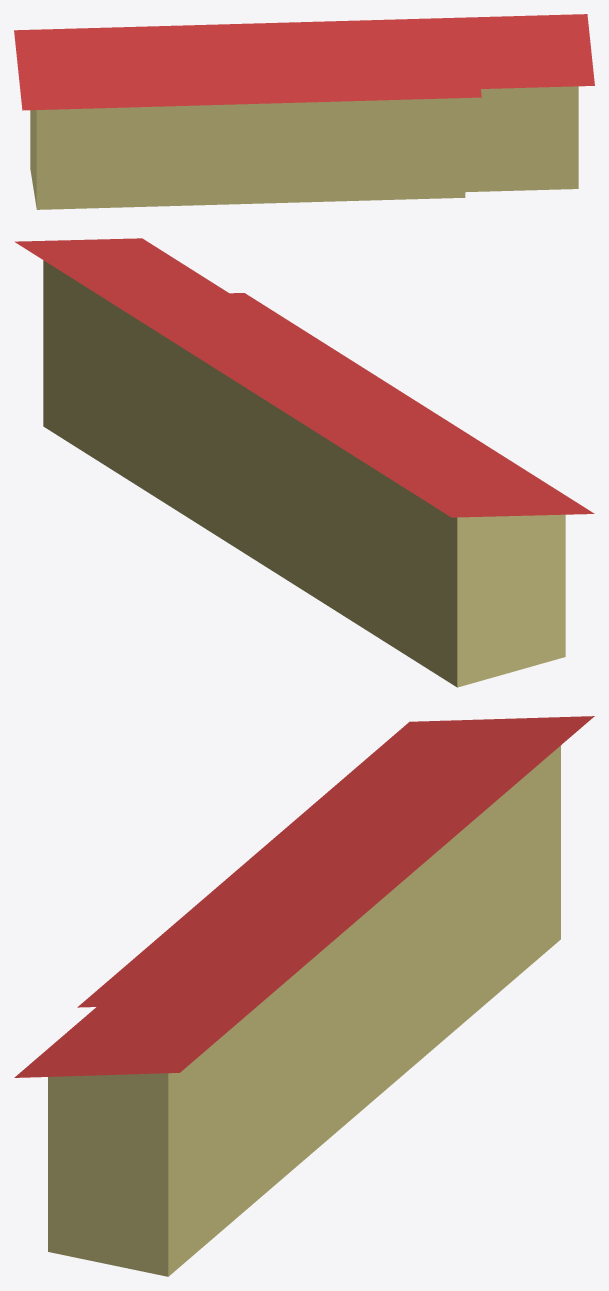
The picture shows the model from 3 angles, top to bottom: view 1: azimuth 30°, elevation 25°; view 2: azimuth 150°, elevation 25°; view 3: azimuth 270°, elevation 25°; orthographic projection. The views are drawn at different scales.
Size of the model in its own units: 36.93 by 22.94 by 9.51.
